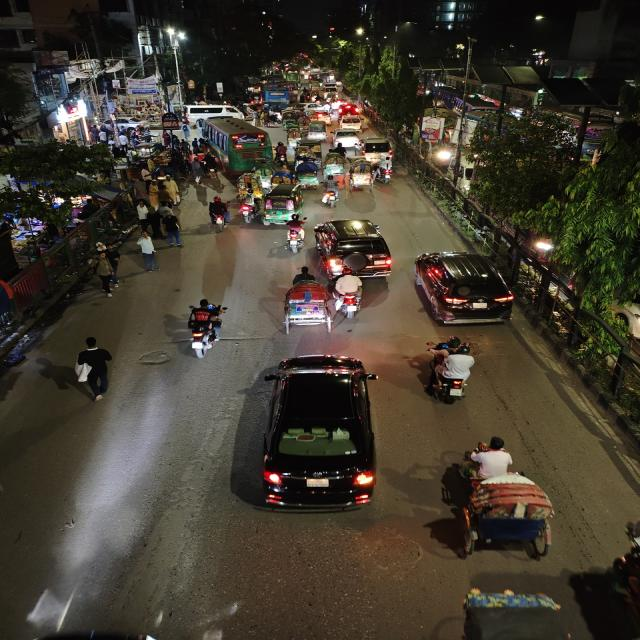bus: (205, 117, 274, 168), (263, 82, 295, 106)
car: (252, 352, 384, 518), (413, 248, 519, 329), (312, 216, 396, 280), (358, 137, 395, 161), (332, 129, 361, 148), (336, 116, 364, 130)
cng: (260, 185, 304, 227), (305, 120, 329, 140)
motorcycle: (420, 336, 486, 408), (180, 298, 233, 360), (332, 268, 368, 320), (206, 195, 231, 233), (283, 215, 307, 253), (373, 159, 397, 186), (235, 198, 258, 226), (320, 186, 343, 208)
pedestrian: (68, 335, 122, 405), (86, 253, 124, 299), (133, 232, 162, 272), (159, 212, 185, 248), (162, 174, 186, 206), (133, 199, 154, 231), (204, 166, 227, 194), (273, 140, 289, 164)
rickshaw: (440, 436, 563, 560), (276, 268, 336, 334), (349, 159, 376, 195), (322, 148, 348, 182), (295, 160, 320, 190), (279, 109, 304, 137)
